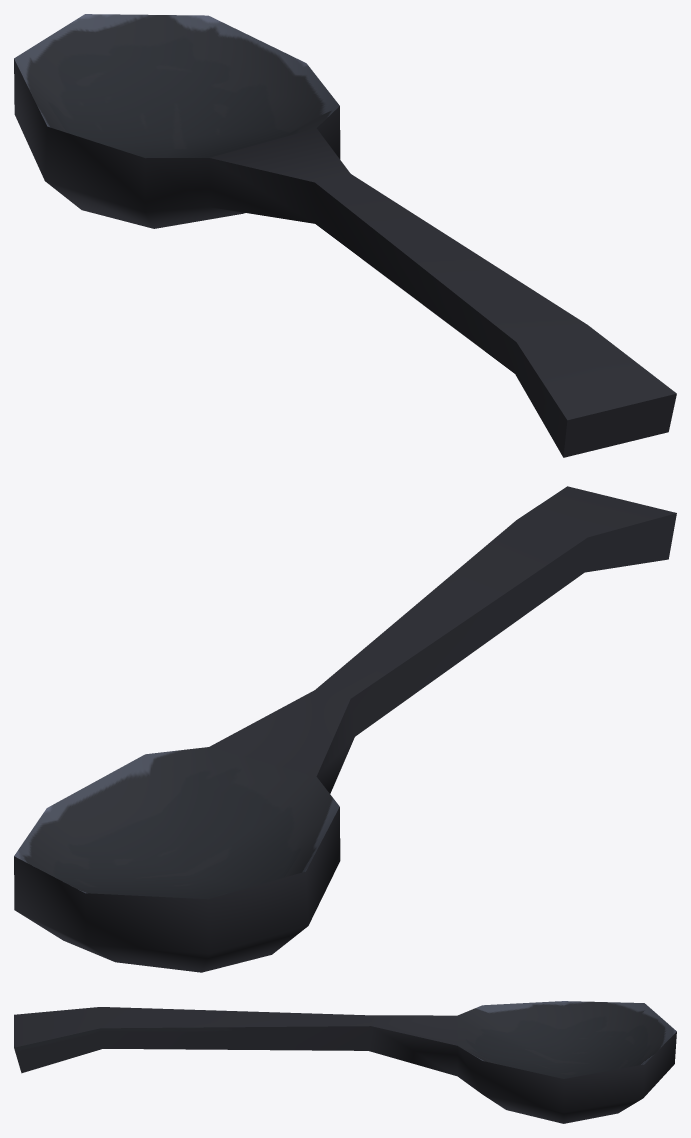
The model's file is SM_PROP_spoon_interior.fbx.
3 renders of one model, top to bottom at view 1: azimuth 30°, elevation 25°; view 2: azimuth 150°, elevation 25°; view 3: azimuth 270°, elevation 25°, orthographic. The views are drawn at different scales.
Visible parts, largest first — view 1: SM_PROP_spoon_interior; view 2: SM_PROP_spoon_interior; view 3: SM_PROP_spoon_interior.
Part boxes in pixels (x1,y1,x2,y2): SM_PROP_spoon_interior: (14,14,676,457); SM_PROP_spoon_interior: (14,486,676,972); SM_PROP_spoon_interior: (14,1001,676,1123).
Size of the model in its own units: 6.75 by 3.24 by 23.8.
